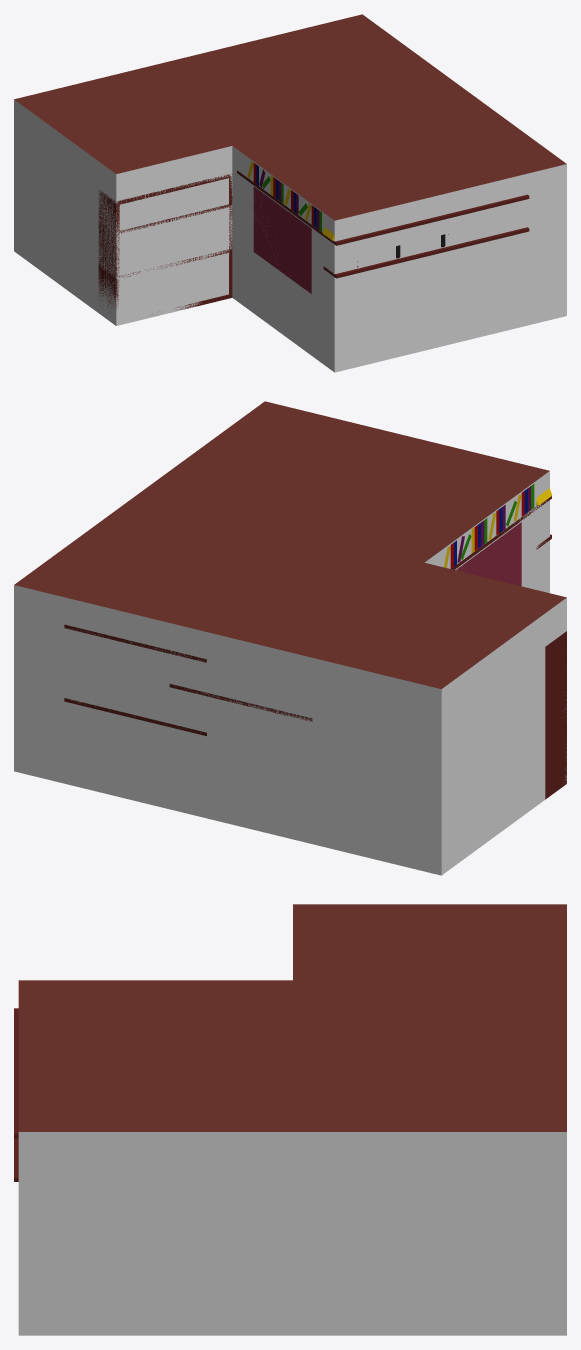
File: keuken.fbx
3 renders of one model, top to bottom at view 1: azimuth 30°, elevation 25°; view 2: azimuth 150°, elevation 25°; view 3: azimuth 270°, elevation 25°, orthographic. The views are drawn at different scales.
Visible parts, largest first — view 1: Plane, Cube.004, Cube; view 2: Plane, Cube.004, Cube; view 3: Plane, Cube.004.
Part boxes in pixels (x1=…): Plane: x1=14, y1=14, x2=566, y2=372; Cube.004: x1=98, y1=170, x2=529, y2=310; Cube: x1=253, y1=186, x2=311, y2=293; Plane: x1=14, y1=401, x2=566, y2=875; Cube.004: x1=64, y1=496, x2=566, y2=799; Cube: x1=456, y1=522, x2=521, y2=586; Plane: x1=18, y1=904, x2=566, y2=1335; Cube.004: x1=14, y1=1008, x2=18, y2=1181.
Size of the model in its own units: 600 by 250 by 615.
